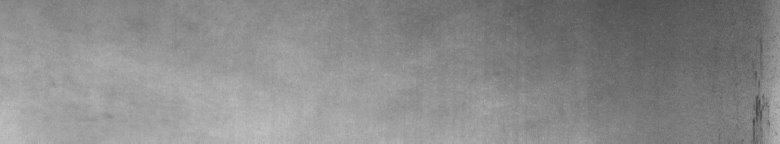ka: (747, 36, 776, 136)
